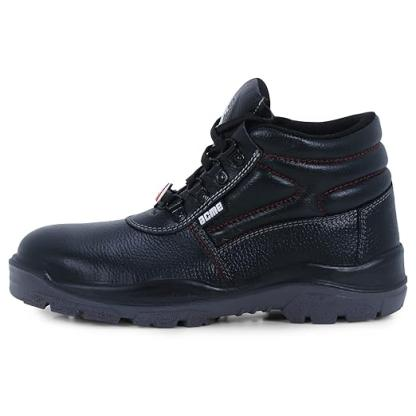bota: (5, 73, 416, 330)
